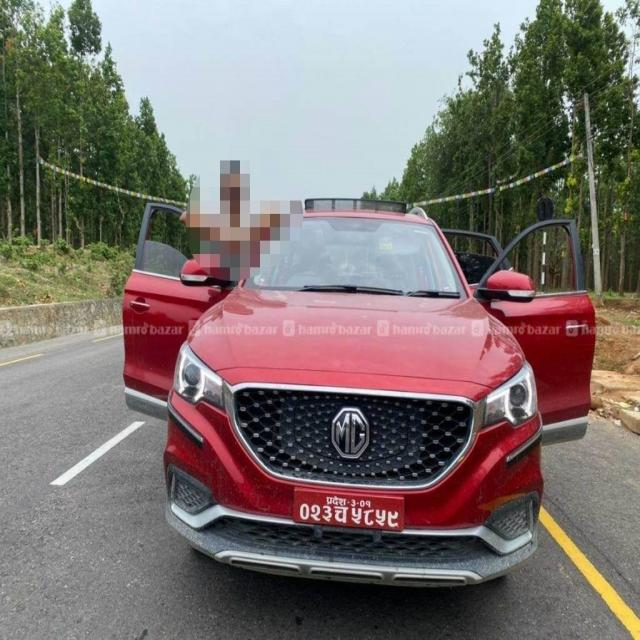License-plate: (296, 486, 405, 530)
